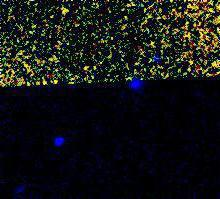star: (49, 0, 79, 30)
